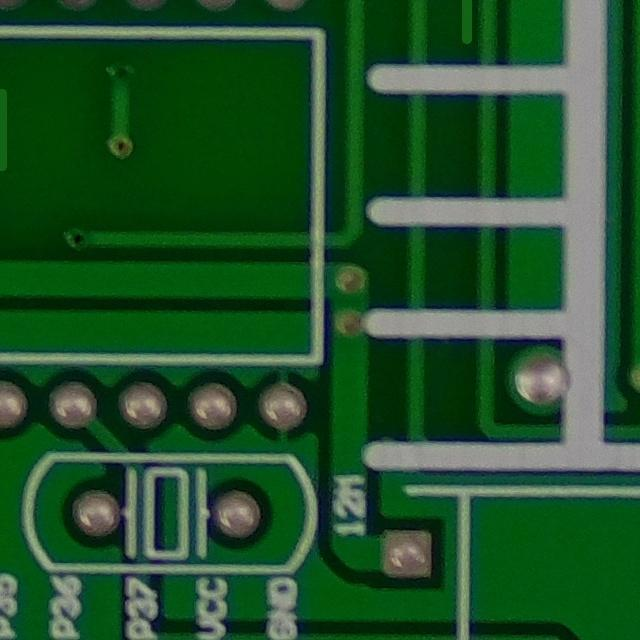spurious_copper: (0, 77, 25, 186), (449, 0, 490, 49)
